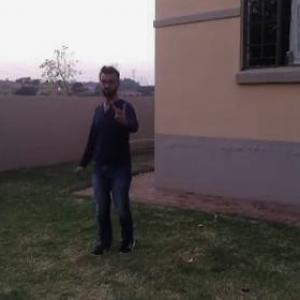takeoff-hand: (106, 94, 132, 126)
